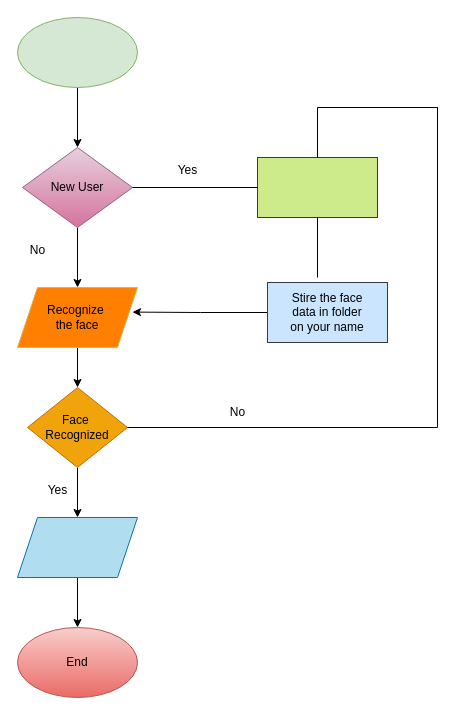
Some shapes in this 456 by 715 pixel diagram are drawn without their labels. Here are the shapes that lost their labels. From the top down, the centre of each, then its label:
At point 77,52: "Start".
At point 317,187: "Give your Photograph".
At point 77,547: "Stored in csv file with registration number & date Time or Entry".
